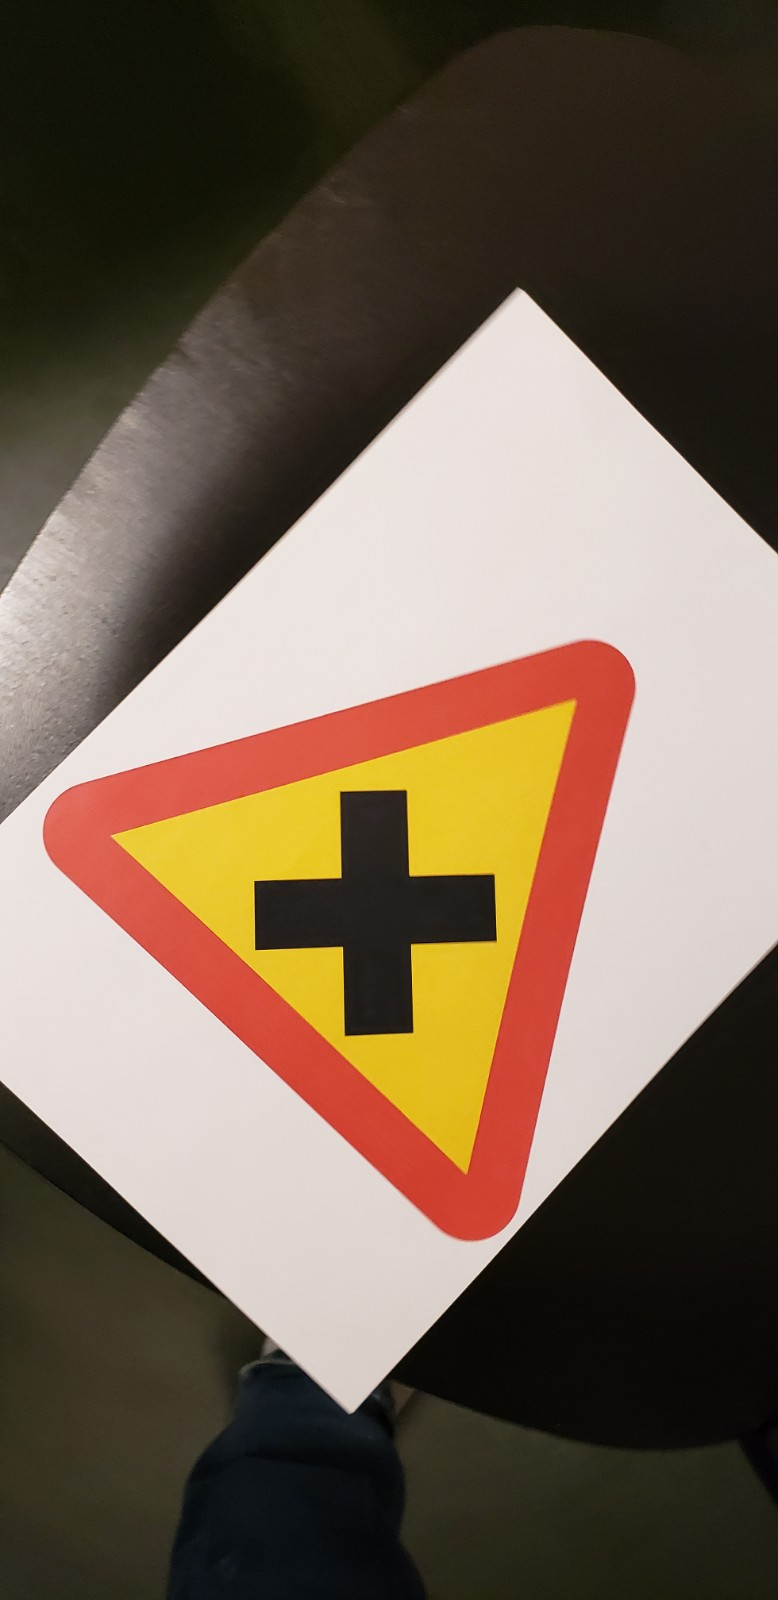junction: (45, 660, 657, 1245)
